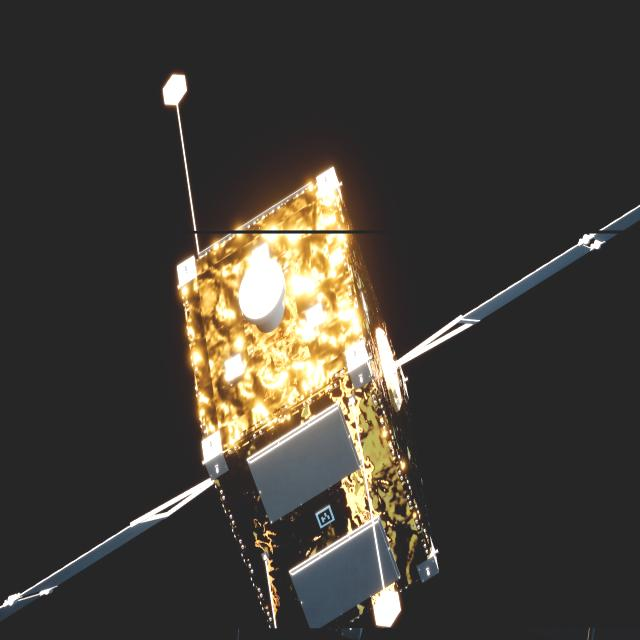satellite: (0, 169, 640, 634)
